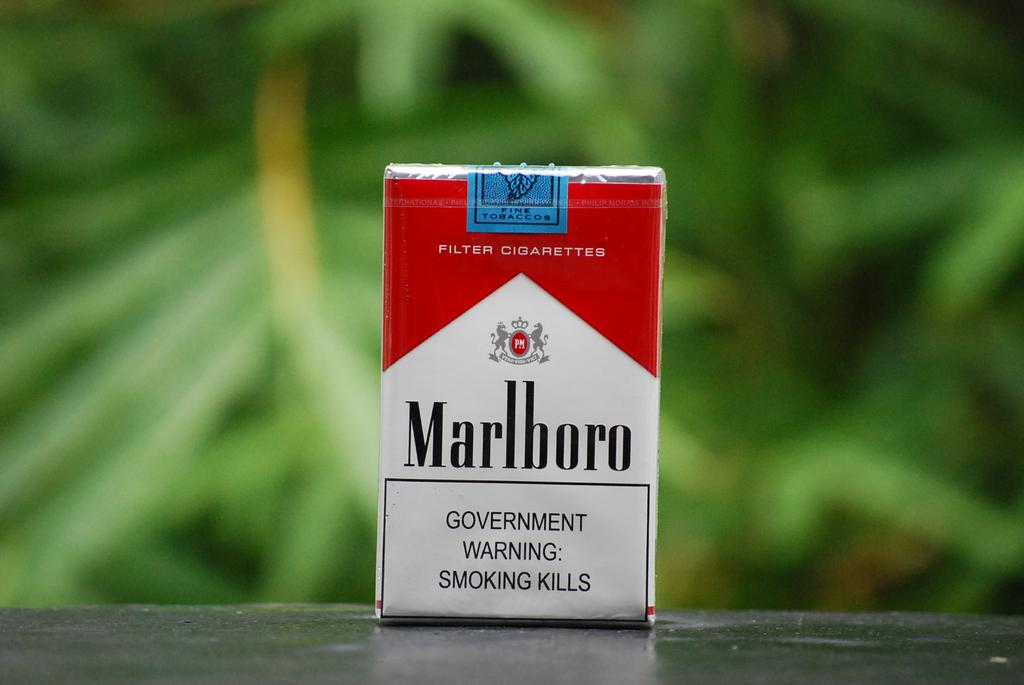marlboro_red: (379, 183, 653, 619)
